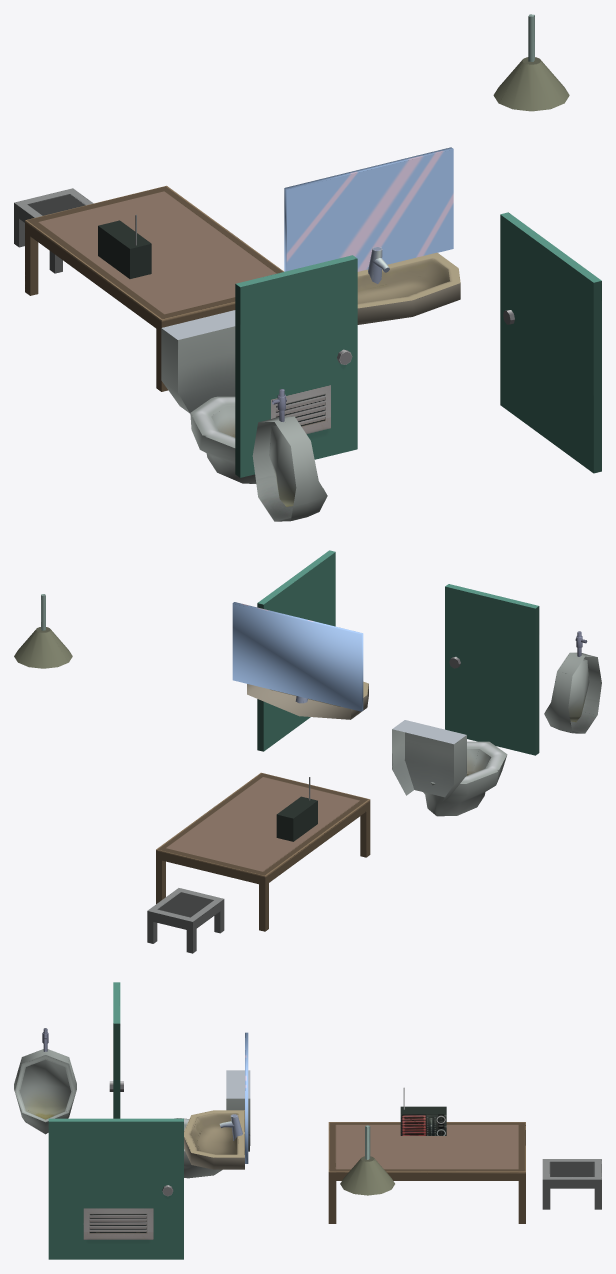
File: ClubStuff.fbx
3 renders of one model, top to bottom at view 1: azimuth 30°, elevation 25°; view 2: azimuth 150°, elevation 25°; view 3: azimuth 270°, elevation 25°, orthographic. The views are drawn at different scales.
Parts seen in each view (by area): view 1: Mirror & Washbasin, Door.001, Door, Table, WC, Urinator, Lights, Radio, Stool; view 2: Door.001, Table, Mirror & Washbasin, WC, Door, Urinator, Stool, Lights, Radio; view 3: Door, Table, Urinator, Mirror & Washbasin, Stool, Lights, WC, Radio, Door.001.
Boxes of the visible parts, <box> form: Mirror & Washbasin: <box>284,147,460,324</box>; Door.001: <box>235,255,357,477</box>; Door: <box>500,212,601,473</box>; Table: <box>25,185,283,391</box>; WC: <box>161,310,256,483</box>; Urinator: <box>252,389,327,521</box>; Lights: <box>493,14,569,111</box>; Radio: <box>98,214,151,278</box>; Stool: <box>14,188,93,273</box>; Door.001: <box>445,584,539,755</box>; Table: <box>156,772,370,931</box>; Mirror & Washbasin: <box>232,602,368,719</box>; WC: <box>392,720,507,816</box>; Door: <box>257,550,335,751</box>; Urinator: <box>544,631,601,733</box>; Stool: <box>147,888,224,953</box>; Lights: <box>14,594,72,668</box>; Radio: <box>276,777,317,841</box>; Door: <box>48,1118,183,1259</box>; Table: <box>328,1122,525,1223</box>; Urinator: <box>14,1028,76,1134</box>; Mirror & Washbasin: <box>184,1032,248,1169</box>; Stool: <box>542,1159,601,1209</box>; Lights: <box>340,1125,394,1195</box>; WC: <box>174,1070,250,1178</box>; Radio: <box>400,1087,446,1135</box>; Door.001: <box>109,982,123,1118</box>.
Bounding box in the file's own units: 4.36 × 2.1 × 5.96.
